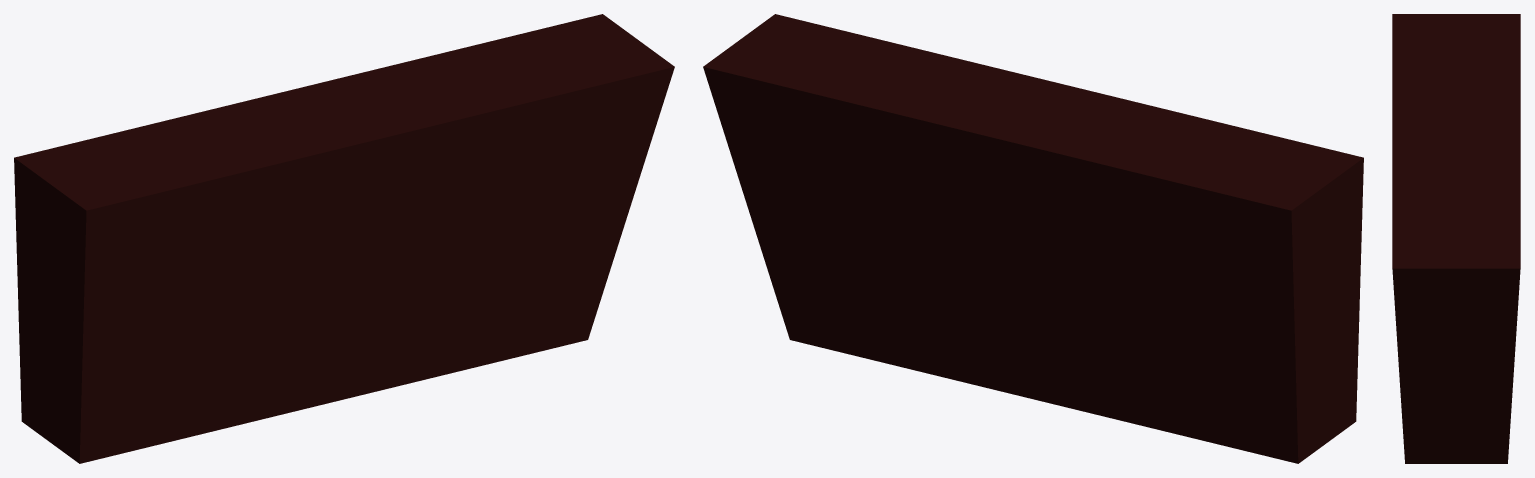
Rendered from W_O_Playground_Glassbed_003_L3.fbx.
3 renders of one model, left to right at view 1: azimuth 30°, elevation 25°; view 2: azimuth 150°, elevation 25°; view 3: azimuth 270°, elevation 25°, orthographic. The views are drawn at different scales.
Visible parts, largest first — view 1: W_O_Playground_Glassbed_003_L3; view 2: W_O_Playground_Glassbed_003_L3; view 3: W_O_Playground_Glassbed_003_L3.
Boxes of the visible parts, left/top/right/bottom form: W_O_Playground_Glassbed_003_L3: left=14, top=14, right=674, bottom=463; W_O_Playground_Glassbed_003_L3: left=703, top=14, right=1363, bottom=463; W_O_Playground_Glassbed_003_L3: left=1392, top=14, right=1520, bottom=463.
Size of the model in its own units: 1.48 by 0.6202 by 0.3147.
